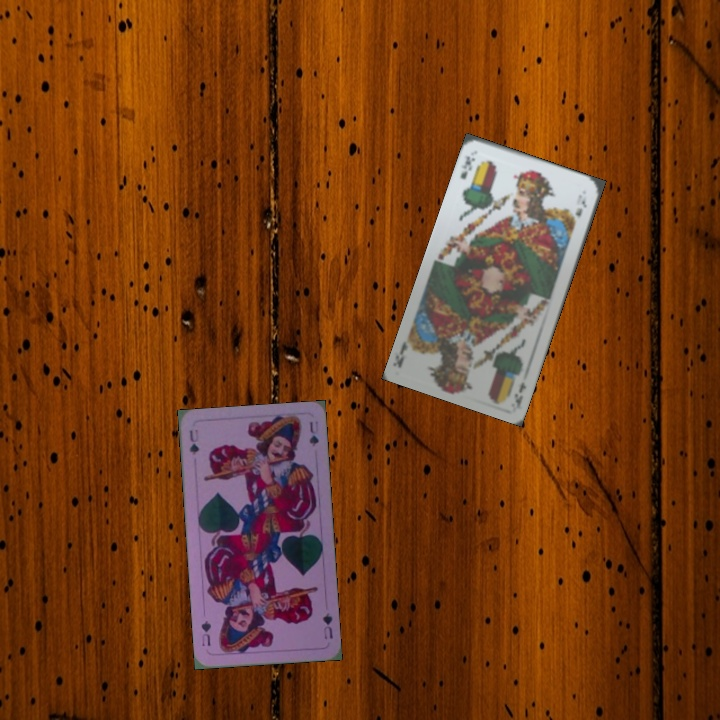EK: (456, 152, 477, 182), (510, 378, 529, 409)
GU: (318, 609, 336, 642), (185, 425, 201, 457)
